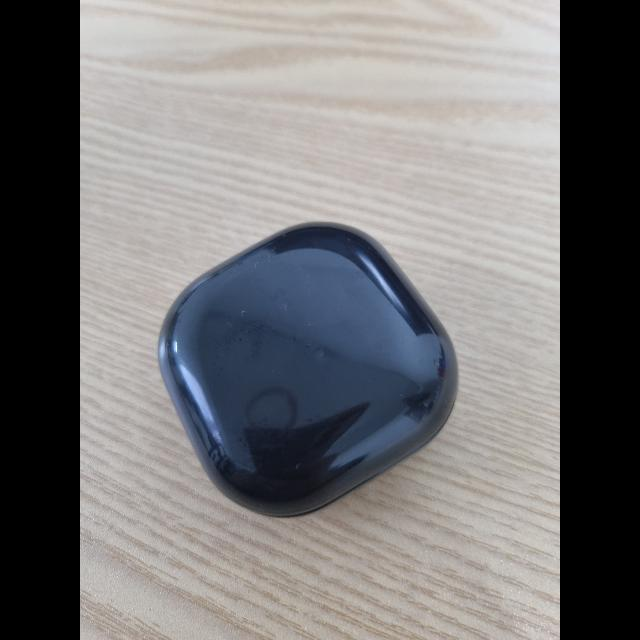buds_live: (157, 220, 460, 522)
